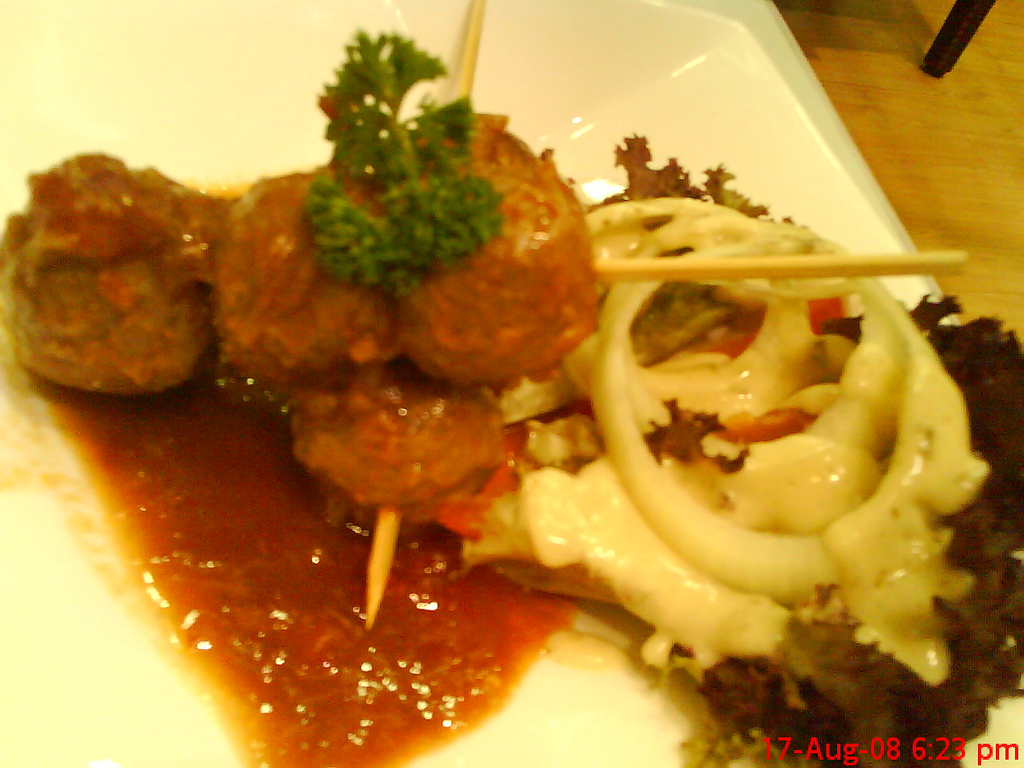meatballs: (219, 163, 496, 479)
